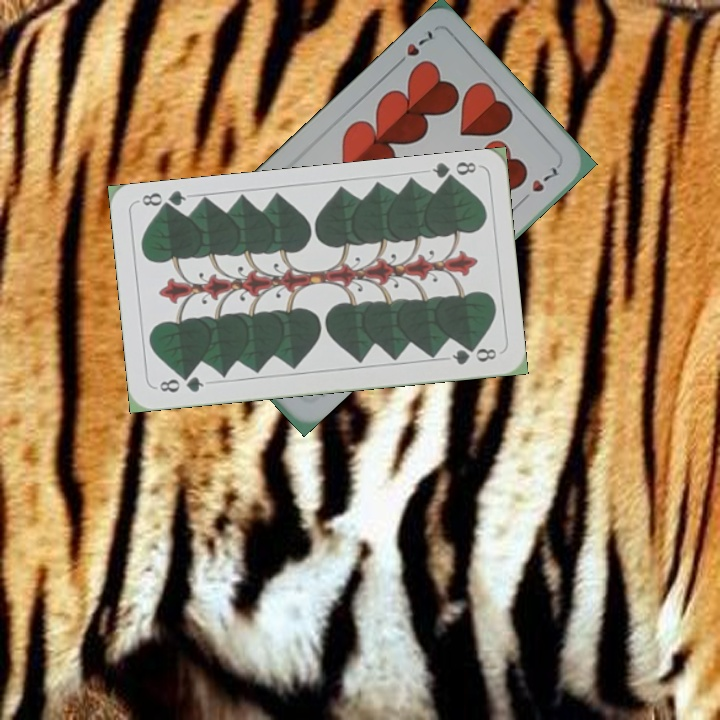G8: (428, 157, 479, 187), (155, 371, 206, 395)
H7: (390, 25, 438, 71)
